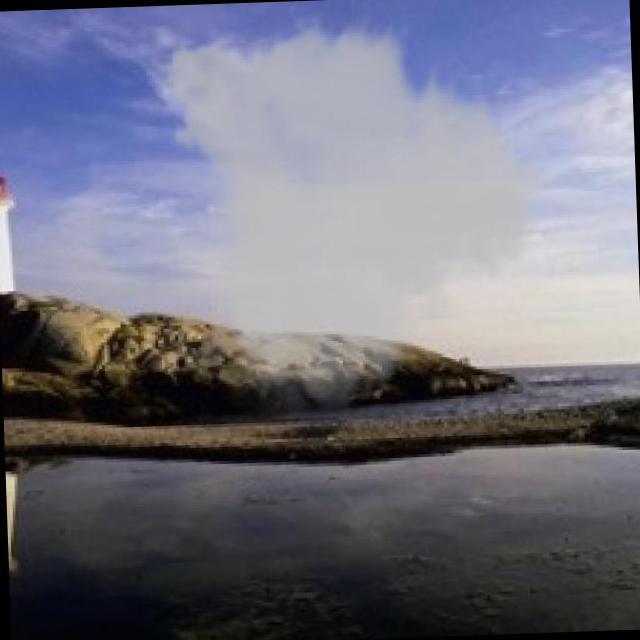Smoke: (138, 1, 569, 423)
